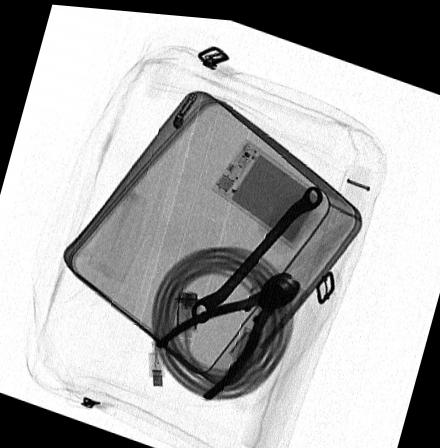Pliers: (153, 263, 300, 398)
Powerbank: (208, 132, 326, 243)
Wrench: (190, 180, 325, 319)
